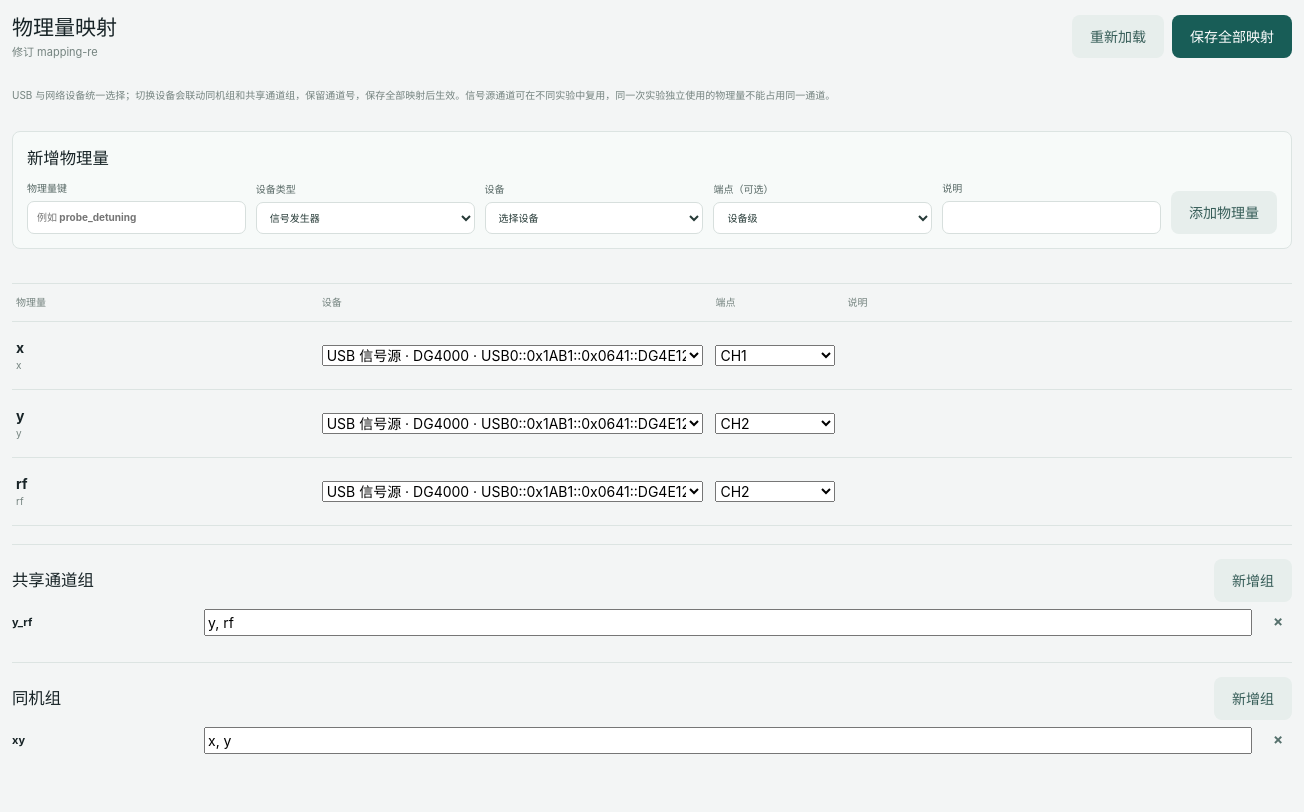
Scenario: 物理量设备成组切换 › 从共享通道组的成员发起也联动同机组
This screenshot has width=1304, height=812.
Select "网络信号源 · DG900 · TCPIP0::192.168.124.31::INSTR · DG9Q321" in the dropdown named "rf 设备" at (513,491), box [322,481,704,502]
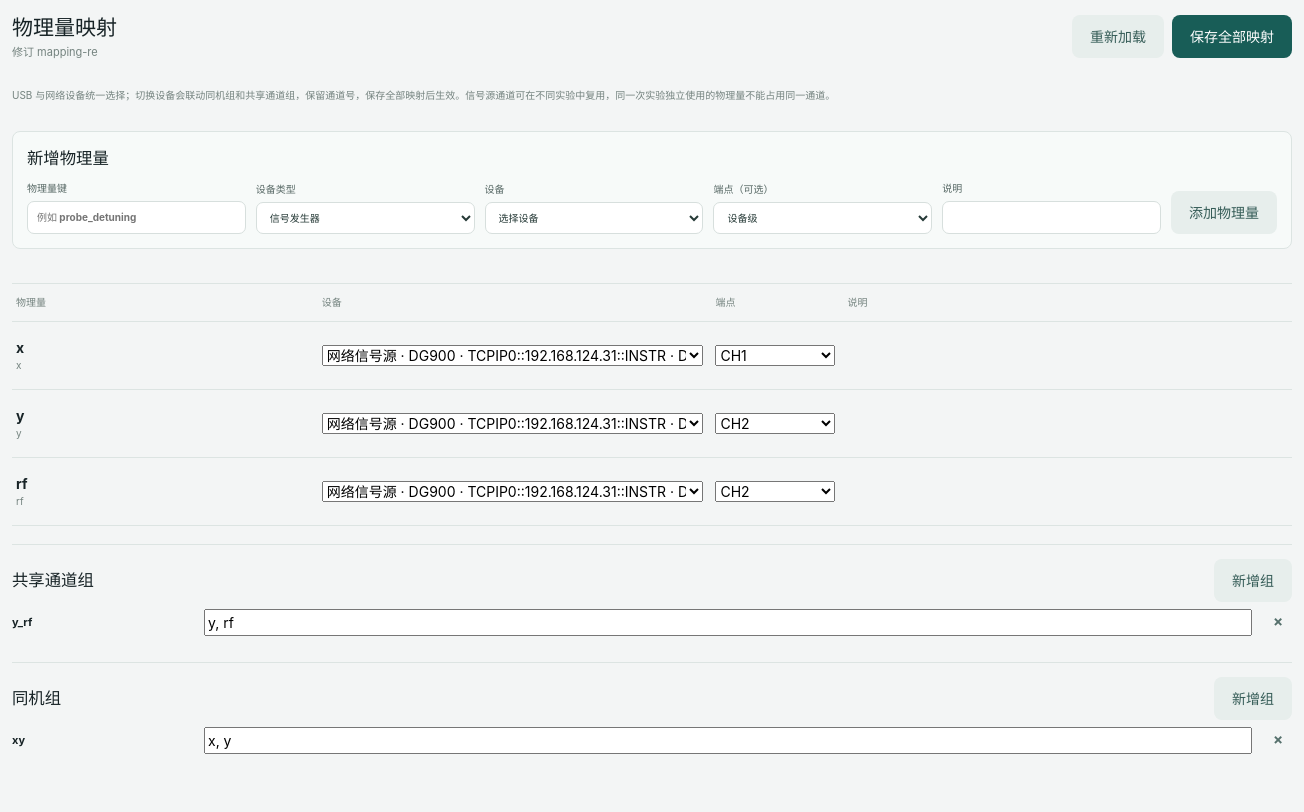
Check: the dropdown named "x 设备" shows "网络信号源 · DG900 · TCPIP0::192.168.124.31::INSTR · DG9Q321", box [322,345,704,366]
